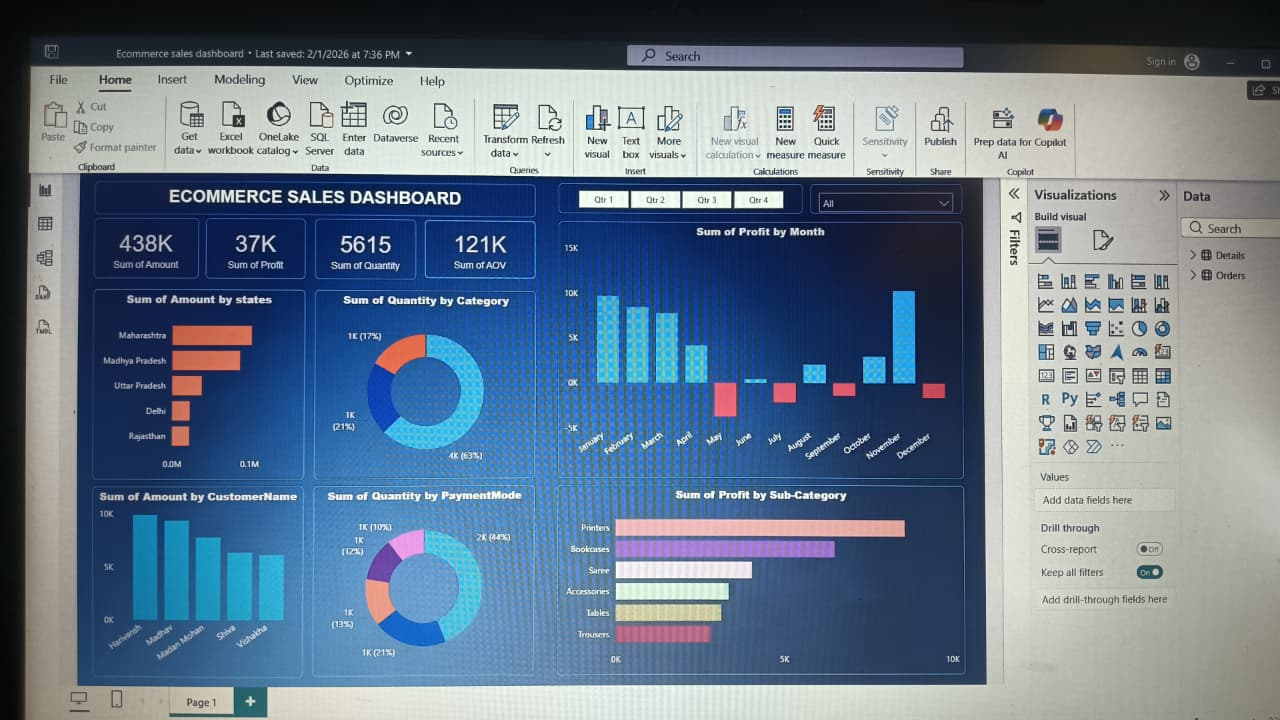

The page's visual inventory and layout, read from the dashboard file:
{"tool":"powerbi","page":{"name":"Page 1","canvas":[1280,720],"ordinal":0},"visuals":[{"type":"columnChart","title":"Sum of Profit by Month","fields":{"Y":["Sum(Details.Profit)"],"Category":["Orders.Order Date.Variation.Date Hierarchy.Month"]},"box":[672.4,64.5,577.7,366.4],"z":0},{"type":"clusteredBarChart","title":"Sum of Profit by Sub-Category","fields":{"Category":["Details.Sub-Category"],"Y":["Sum(Details.Profit)"]},"box":[672.4,440.5,577.7,264.8],"z":1000},{"type":"card","fields":{"Values":["Sum(Details.Amount)"]},"box":[22,64.5,146.8,85.1],"z":2000},{"type":"card","fields":{"Values":["Sum(Details.Profit)"]},"box":[178.4,64.5,138.6,85.1],"z":3000},{"type":"card","fields":{"Values":["Sum(Details.Quantity)"]},"box":[330.7,64.5,140,85.1],"z":4000},{"type":"card","fields":{"Values":["Sum(Details.AOV)"]},"box":[483,64.5,156.4,82.3],"z":5000},{"type":"clusteredBarChart","title":"Sum of Amount by states","fields":{"Category":["Orders.State"],"Y":["Sum(Details.Amount)"]},"box":[22,164.7,295,266.2],"z":6000},{"type":"clusteredColumnChart","fields":{"Category":["Orders.CustomerName"],"Y":["Sum(Details.Amount)"]},"box":[22,440.5,295,266.2],"z":7000},{"type":"slicer","fields":{"Values":["Orders.Order Date.Variation.Date Hierarchy.Quarter"]},"box":[672.4,9.6,349.9,42.5],"z":8000},{"type":"slicer","fields":{"Values":["Orders.State"]},"box":[1033.3,9.6,216.8,42.5],"z":9000},{"type":"textbox","box":[22,12.3,617.5,46.7],"z":10000},{"type":"donutChart","fields":{"Y":["Sum(Details.Quantity)"],"Category":["Details.PaymentMode"]},"box":[330.7,440.5,308.7,264.8],"z":11000},{"type":"donutChart","fields":{"Y":["Sum(Details.Quantity)"],"Category":["Details.Category"]},"box":[330.7,164.7,308.7,266.2],"z":12000}]}

Visuals, with their boxes on the page's 1280x720 design canvas (x1, y1, x2, y2). These are canvas units, not pixel positions in the 1280x720 screenshot, which may show the page scaled, cropped or inside an application window:
"Sum of Profit by Month" columnChart: [x1=672, y1=64, x2=1250, y2=431]
"Sum of Profit by Sub-Category" clusteredBarChart: [x1=672, y1=440, x2=1250, y2=705]
card - Sum(Details.Amount): [x1=22, y1=64, x2=169, y2=150]
card - Sum(Details.Profit): [x1=178, y1=64, x2=317, y2=150]
card - Sum(Details.Quantity): [x1=331, y1=64, x2=471, y2=150]
card - Sum(Details.AOV): [x1=483, y1=64, x2=639, y2=147]
"Sum of Amount by states" clusteredBarChart: [x1=22, y1=165, x2=317, y2=431]
clusteredColumnChart - Orders.CustomerName x Sum(Details.Amount): [x1=22, y1=440, x2=317, y2=707]
slicer - Orders.Order Date.Variation.Date Hierarchy.Quarter: [x1=672, y1=10, x2=1022, y2=52]
slicer - Orders.State: [x1=1033, y1=10, x2=1250, y2=52]
textbox: [x1=22, y1=12, x2=640, y2=59]
donutChart - Sum(Details.Quantity) x Details.PaymentMode: [x1=331, y1=440, x2=639, y2=705]
donutChart - Sum(Details.Quantity) x Details.Category: [x1=331, y1=165, x2=639, y2=431]
